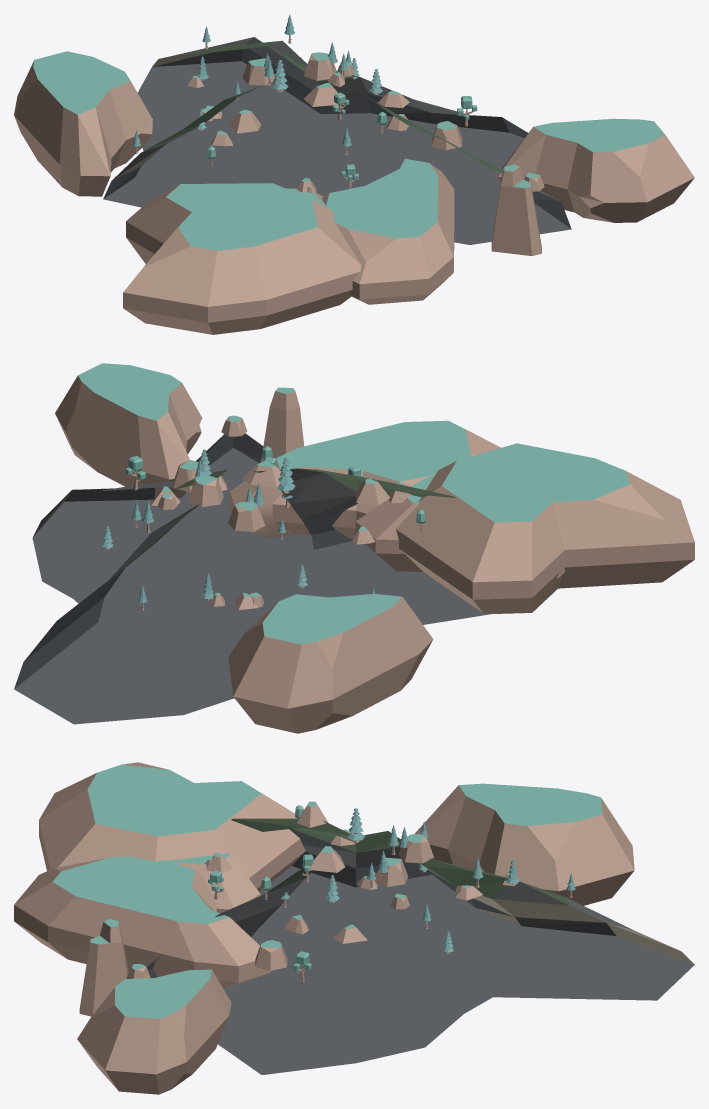
Rendered from dagons_isle_lod0.glb.
The picture shows the model from 3 angles, top to bottom: view 1: azimuth 30°, elevation 25°; view 2: azimuth 150°, elevation 25°; view 3: azimuth 270°, elevation 25°; orthographic projection. The views are drawn at different scales.
Size of the model in its own units: 3.07 by 0.735 by 3.02.
